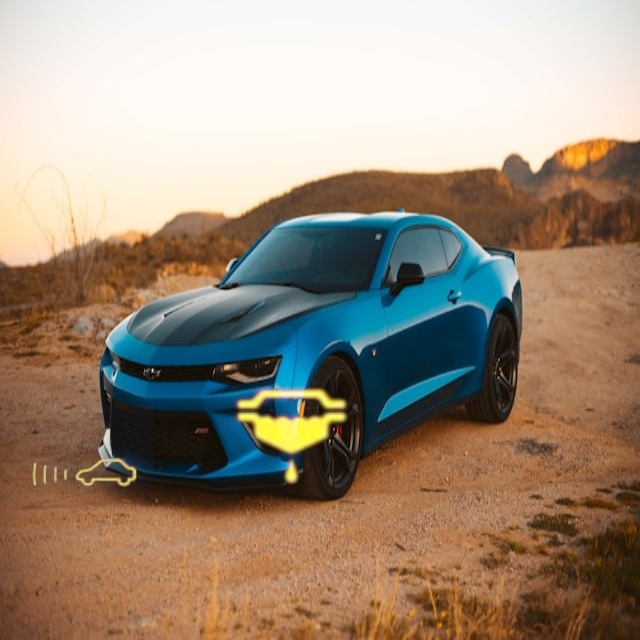symbol: (189, 334, 396, 541), (14, 405, 153, 544)
